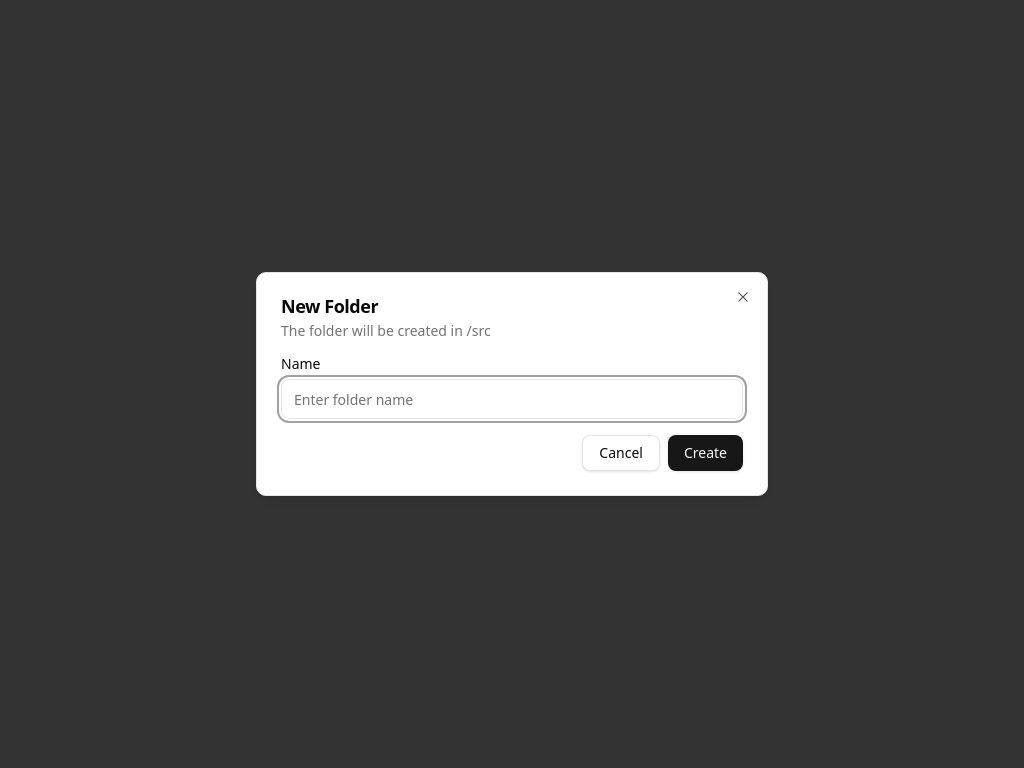
Test: Create Folder Integration › validates folder name before creation
Try to submit with invalid characters
Type "models/invalid" into the field labelled "Name" at [512, 399], box top-left (281, 379), bottom-right (743, 419)
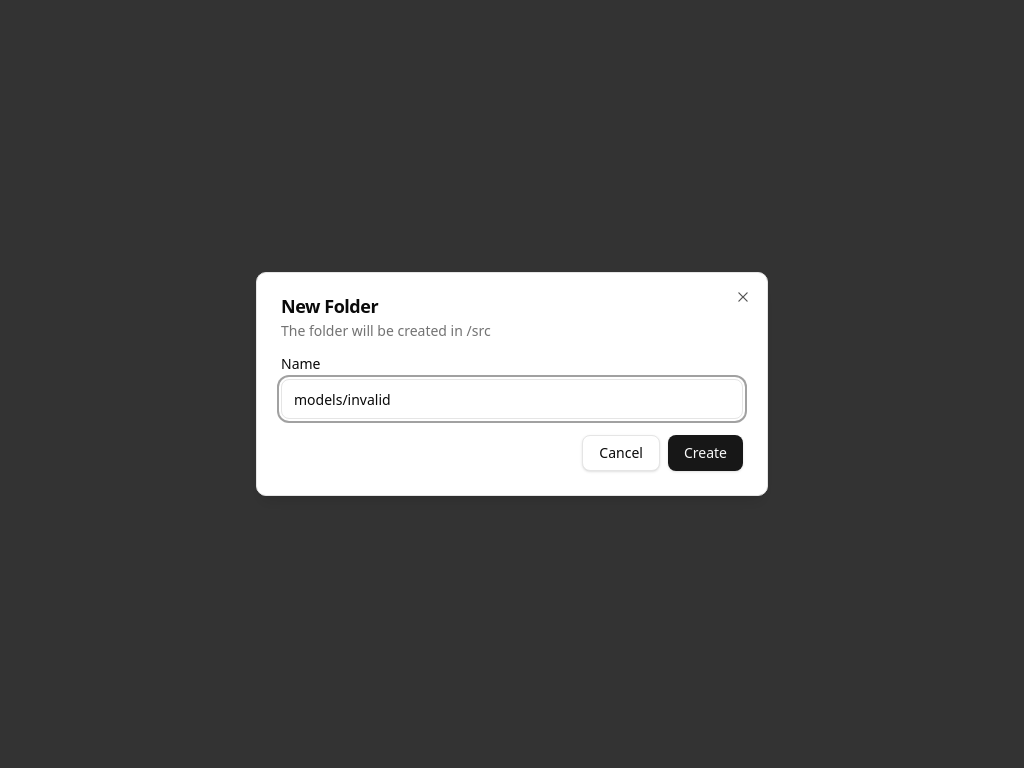
Click the button "Create" at [705, 453], box top-left (668, 435), bottom-right (743, 471)
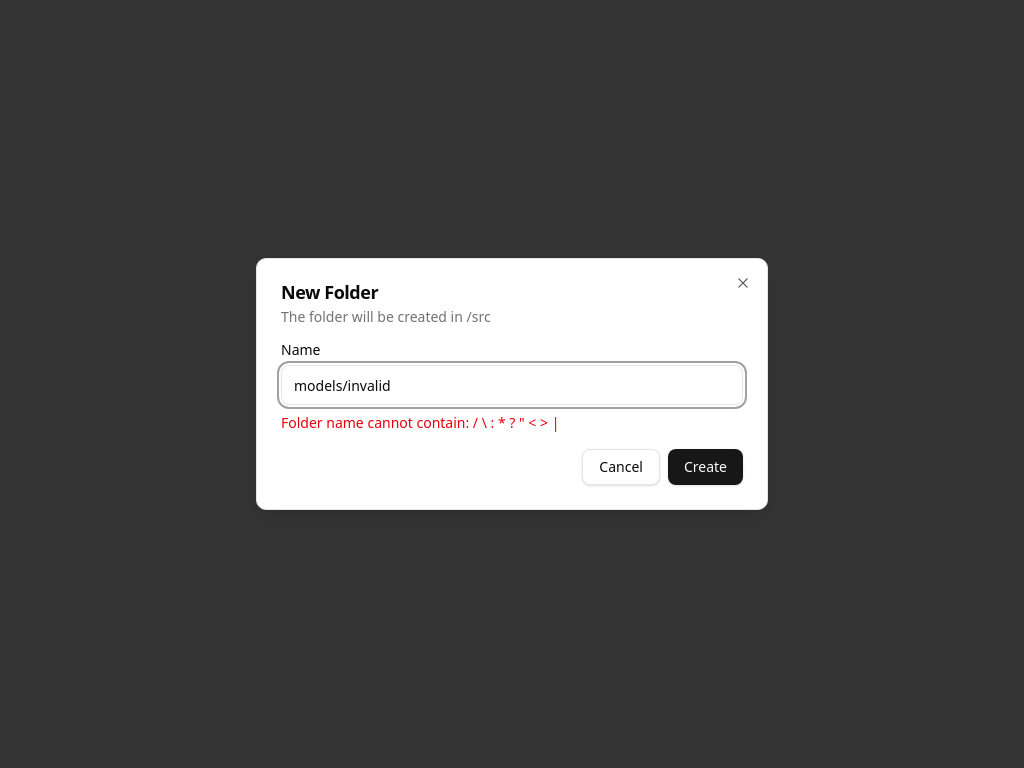
Check: the message shows "cannot contain", box top-left (281, 413), bottom-right (559, 432)
